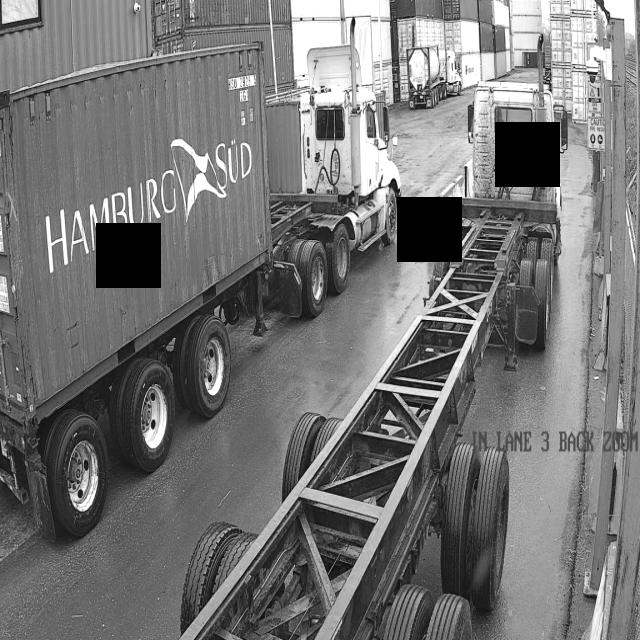container_company_logo: (39, 129, 258, 284)
truck_with_container: (0, 44, 401, 539)
truck_without_container: (177, 62, 567, 640)
